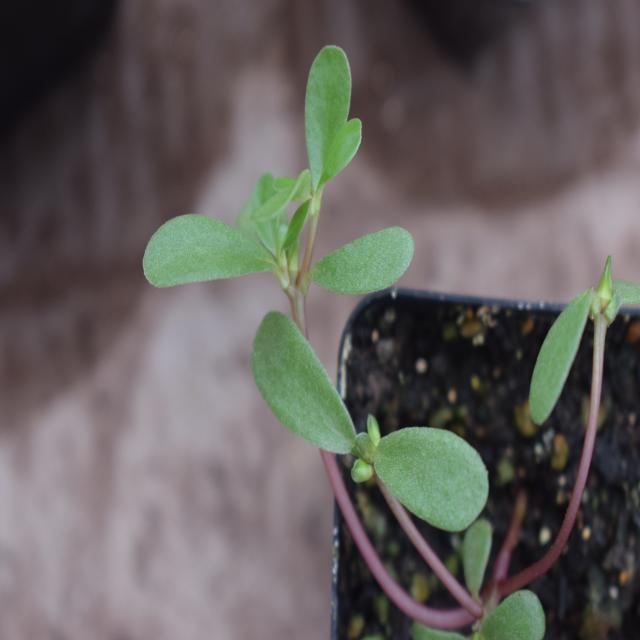purslane: (140, 44, 515, 576)
